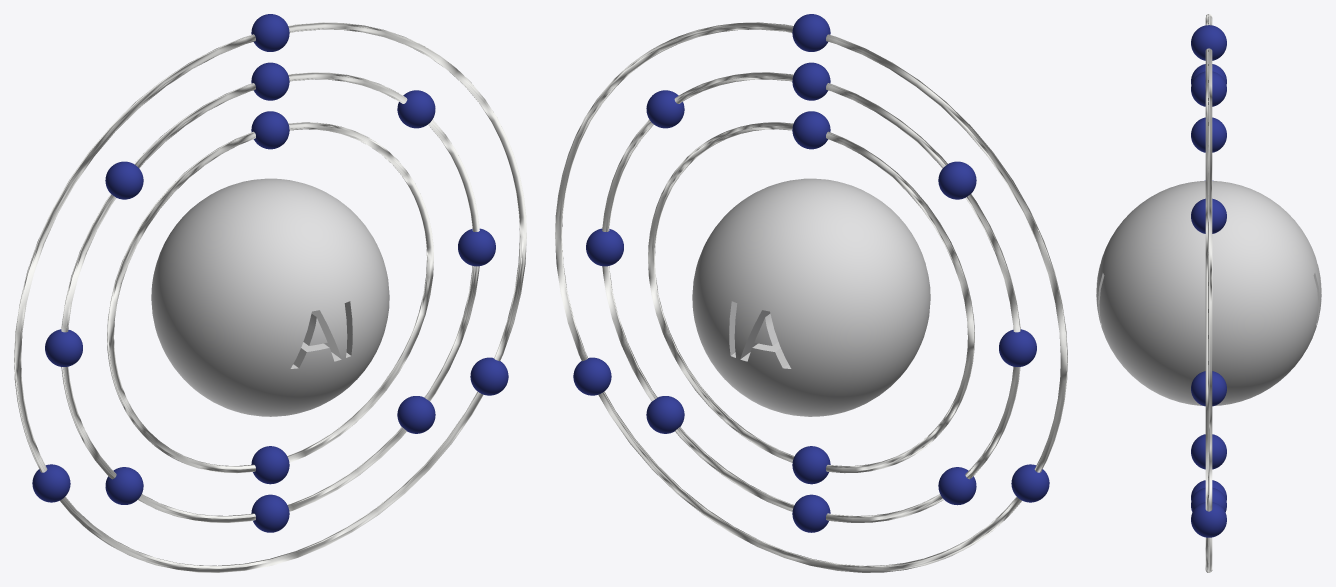
3 views of the same model, side by side, from view 1: azimuth 30°, elevation 25°; view 2: azimuth 150°, elevation 25°; view 3: azimuth 270°, elevation 25° (orthographic). The views are drawn at different scales.
Parts seen in each view (by area): view 1: Body18, Body4, Body3, Body2, Body9, Body16, Body13, Body5, Body6, Body10, Body12, Body15 (+5 smaller); view 2: Body18, Body4, Body3, Body2, Body9, Body16, Body13, Body5, Body6, Body10, Body14, Body7 (+5 smaller); view 3: Body18, Body4, Body16, Body7, Body17, Body5, Body8, Body6, Body14, Body13.
Part boxes in pixels (bbox=[...]): Body18: bbox=[151, 178, 389, 416]; Body4: bbox=[14, 22, 526, 572]; Body3: bbox=[61, 72, 479, 522]; Body2: bbox=[107, 122, 433, 473]; Body9: bbox=[105, 161, 143, 199]; Body16: bbox=[470, 357, 508, 395]; Body13: bbox=[397, 396, 435, 433]; Body5: bbox=[251, 111, 289, 149]; Body6: bbox=[251, 62, 289, 100]; Body10: bbox=[45, 329, 82, 366]; Body12: bbox=[251, 494, 289, 532]; Body15: bbox=[32, 464, 70, 502]; Body18: bbox=[692, 178, 930, 416]; Body4: bbox=[555, 22, 1067, 572]; Body3: bbox=[602, 72, 1020, 522]; Body2: bbox=[648, 122, 974, 473]; Body9: bbox=[938, 161, 976, 199]; Body16: bbox=[573, 357, 611, 395]; Body13: bbox=[646, 396, 684, 433]; Body5: bbox=[792, 111, 830, 149]; Body6: bbox=[792, 62, 830, 100]; Body10: bbox=[999, 329, 1036, 366]; Body14: bbox=[586, 228, 623, 266]; Body7: bbox=[792, 14, 830, 51]; Body18: bbox=[1096, 181, 1321, 405]; Body4: bbox=[1205, 14, 1212, 572]; Body16: bbox=[1191, 502, 1226, 537]; Body7: bbox=[1191, 25, 1226, 60]; Body17: bbox=[1191, 198, 1226, 233]; Body5: bbox=[1191, 117, 1226, 152]; Body8: bbox=[1191, 434, 1226, 469]; Body6: bbox=[1191, 71, 1226, 106]; Body14: bbox=[1191, 371, 1226, 406]; Body13: bbox=[1191, 487, 1226, 512].
Size of the model in its own units: 248 by 254 by 99.97.
